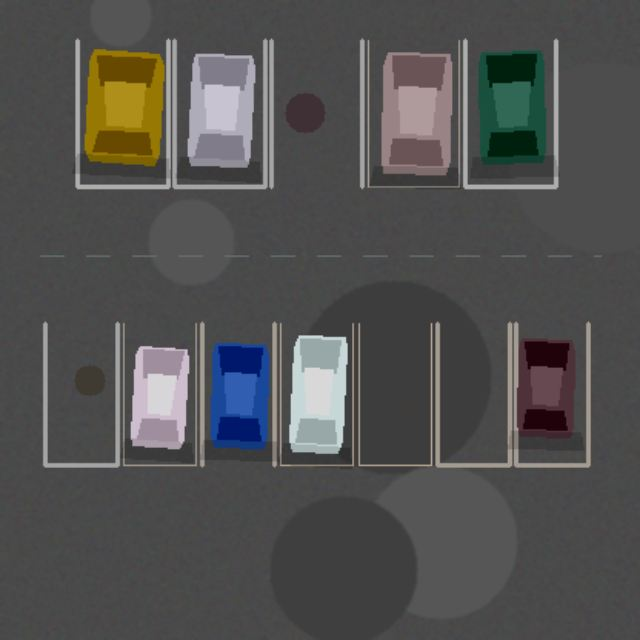space-empty: (271, 40, 362, 186), (358, 323, 431, 465), (45, 323, 117, 465), (437, 323, 509, 465)
space-occupied: (77, 40, 168, 186), (174, 40, 265, 186), (368, 40, 458, 186), (465, 40, 555, 186), (515, 323, 588, 465), (123, 323, 195, 465), (202, 323, 274, 465), (280, 323, 352, 465)
